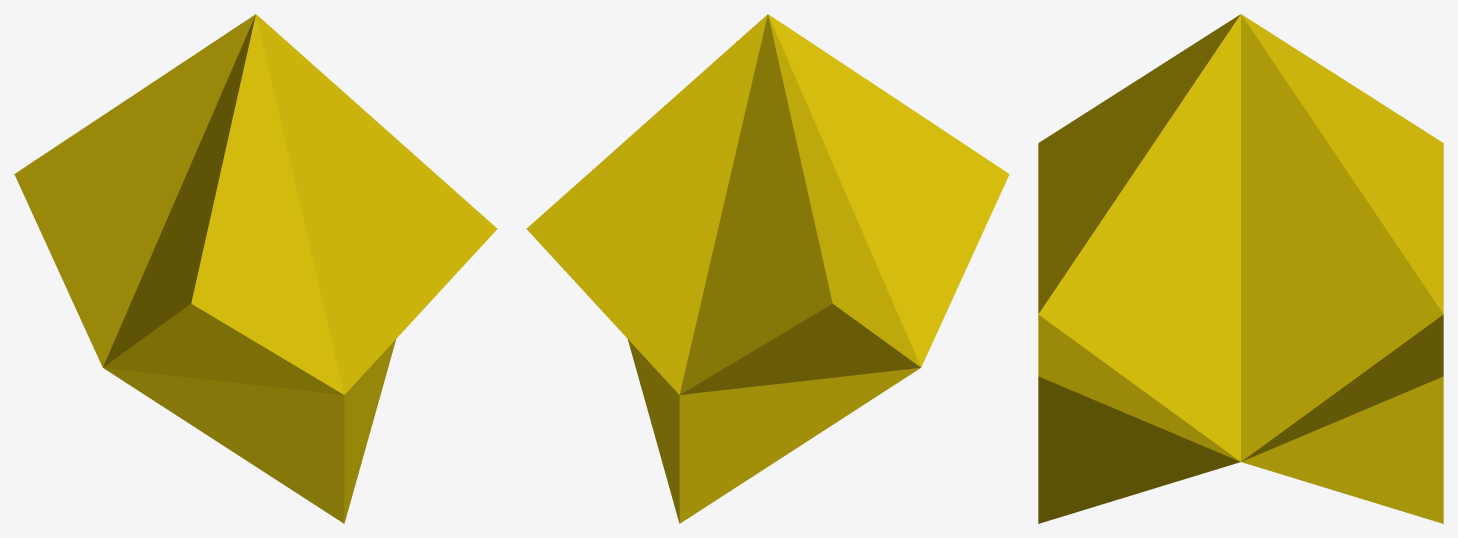
Rendered from artifact.fbx.
3 renders of one model, left to right at view 1: azimuth 30°, elevation 25°; view 2: azimuth 150°, elevation 25°; view 3: azimuth 270°, elevation 25°, orthographic. The views are drawn at different scales.
Visible parts, largest first — view 1: Artifact; view 2: Artifact; view 3: Artifact.
Part boxes in pixels (left/top/right/bottom): Artifact: left=14, top=14, right=497, bottom=523; Artifact: left=526, top=14, right=1009, bottom=523; Artifact: left=1038, top=14, right=1443, bottom=523.
Bounding box in the file's own units: 200 × 278 × 200.
